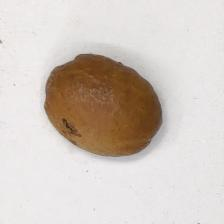NG: (54, 108, 83, 148)
